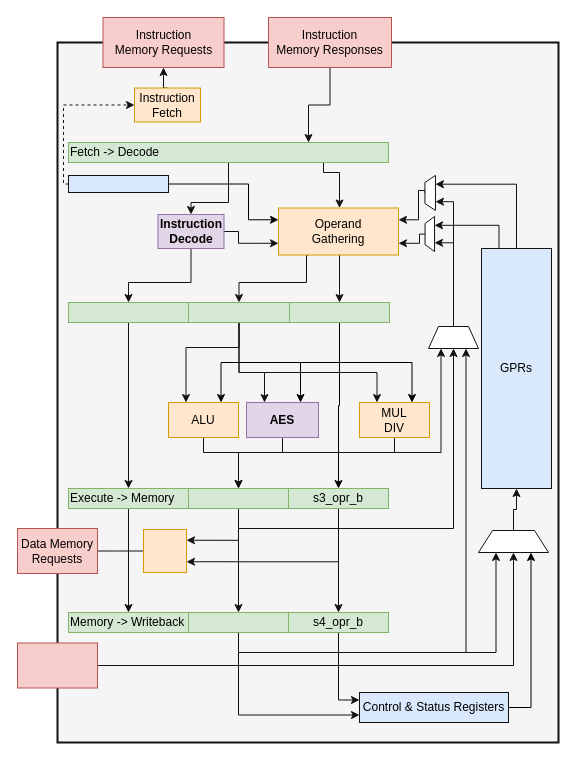
This 577x761 diagram has some shape labels left out. The shapes that lost their labels are listed below. From the top down, each one's box as (x1, y1, x2, y2) in pixels, then its label:
(68, 174, 168, 192): Program Counter
(68, 302, 188, 322): Decode -> Execute
(188, 302, 290, 322): s2_opr_a
(288, 302, 390, 322): s2_opr_b
(188, 488, 288, 508): s3_opr_a
(142, 528, 186, 572): LSU
(188, 612, 288, 632): s4_opr_a
(16, 642, 98, 688): Data Memory Responses
